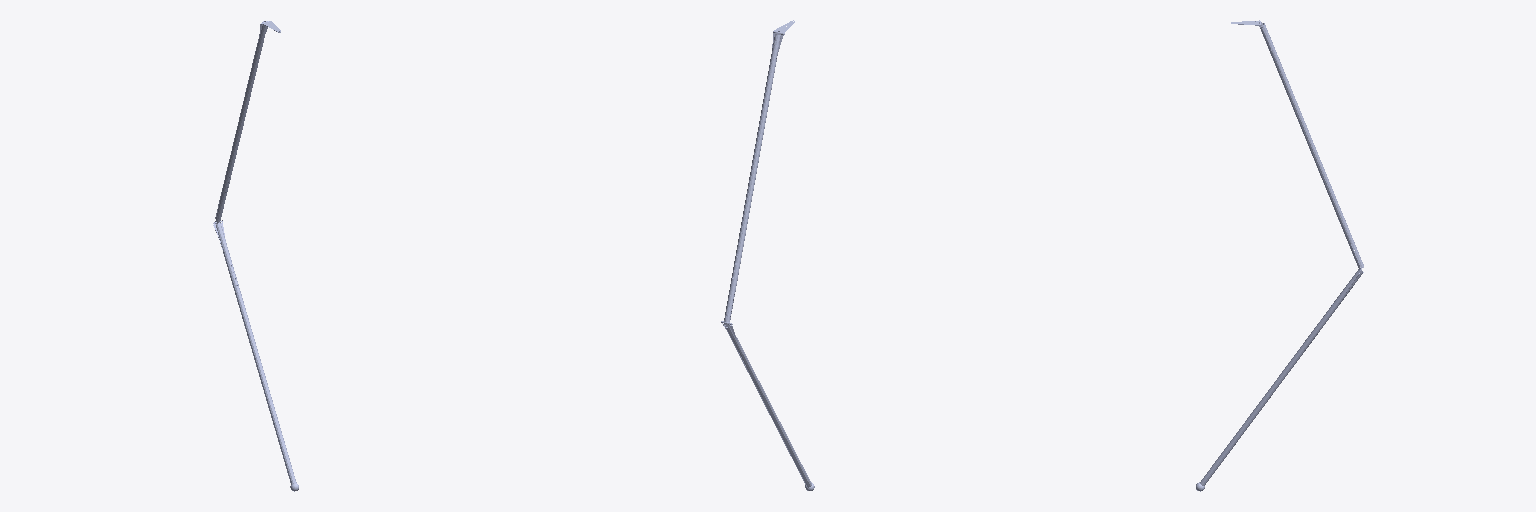
URDF robot description (robo_leg):
<?xml version="1.0" encoding="utf-8"?>
<!-- This URDF was automatically created by SolidWorks to URDF Exporter! Originally created by Stephen Brawner ([email redacted]) 
     Commit Version: 1.6.0-4-g7f85cfe  Build Version: 1.6.7995.38578
     For more information, please see http://wiki.ros.org/sw_urdf_exporter -->
<robot
  name="robo_leg">
  <link
    name="chassis">
    <inertial>
      <origin
        xyz="0.00468211118343995 8.02074076933224E-07 1.44345016779328"
        rpy="0 0 0" />
      <mass
        value="760.637011705538" />
      <inertia
        ixx="548.979952619106"
        ixy="2.9572452853585E-06"
        ixz="0.70108307139235"
        iyy="819.608093662225"
        iyz="-0.0006644896818472"
        izz="326.652818866655" />
    </inertial>
    <visual>
      <origin
        xyz="0 0 0"
        rpy="0 0 0" />
      <geometry>
        <mesh
          filename="package://robo_leg/meshes/chassis.STL" />
      </geometry>
      <material
        name="">
        <color
          rgba="0.792156862745098 0.819607843137255 0.933333333333333 1" />
      </material>
    </visual>
    <collision>
      <origin
        xyz="0 0 0"
        rpy="0 0 0" />
      <geometry>
        <mesh
          filename="package://robo_leg/meshes/chassis.STL" />
      </geometry>
    </collision>
  </link>
  <link
    name="hinge_UU">
    <inertial>
      <origin
        xyz="-0.000588001226960427 -0.0538797737282969 0.0040775821785497"
        rpy="0 0 0" />
      <mass
        value="0.0124075021216369" />
      <inertia
        ixx="2.1547530224451E-05"
        ixy="4.08560226266882E-09"
        ixz="3.50399838282756E-11"
        iyy="2.48420344050436E-06"
        iyz="4.38826489428055E-07"
        izz="2.39156461358384E-05" />
    </inertial>
    <visual>
      <origin
        xyz="0 0 0"
        rpy="0 0 0" />
      <geometry>
        <mesh
          filename="package://robo_leg/meshes/hinge_UU.STL" />
      </geometry>
      <material
        name="">
        <color
          rgba="0.792156862745098 0.819607843137255 0.933333333333333 1" />
      </material>
    </visual>
    <collision>
      <origin
        xyz="0 0 0"
        rpy="0 0 0" />
      <geometry>
        <mesh
          filename="package://robo_leg/meshes/hinge_UU.STL" />
      </geometry>
    </collision>
  </link>
  <joint
    name="hinge_UU_j"
    type="fixed">
    <origin
      xyz="0.000591115875000159 -0.336809806641101 2.52518148974062"
      rpy="0 0 0" />
    <parent
      link="chassis" />
    <child
      link="hinge_UU" />
    <axis
      xyz="0 0 0" />
  </joint>
  <link
    name="hinge_UL">
    <inertial>
      <origin
        xyz="-0.000350068636117778 0.0187349879184172 -0.0407234626928345"
        rpy="0 0 0" />
      <mass
        value="0.0149562489565383" />
      <inertia
        ixx="2.77383053237888E-05"
        ixy="6.53538296214272E-08"
        ixz="-1.41295179953695E-07"
        iyy="2.61494686866995E-05"
        iyz="9.67139193493288E-06"
        izz="6.47198136297428E-06" />
    </inertial>
    <visual>
      <origin
        xyz="0 0 0"
        rpy="0 0 0" />
      <geometry>
        <mesh
          filename="package://robo_leg/meshes/hinge_UL.STL" />
      </geometry>
      <material
        name="">
        <color
          rgba="0.792156862745098 0.819607843137255 0.933333333333333 1" />
      </material>
    </visual>
    <collision>
      <origin
        xyz="0 0 0"
        rpy="0 0 0" />
      <geometry>
        <mesh
          filename="package://robo_leg/meshes/hinge_UL.STL" />
      </geometry>
    </collision>
  </link>
  <joint
    name="hinge_UL_j"
    type="revolute">
    <origin
      xyz="0 0 0"
      rpy="0 0 0" />
    <parent
      link="hinge_UU" />
    <child
      link="hinge_UL" />
    <axis
      xyz="1 0 0" />
    <limit
      lower="0.349"
      upper="-0.349"
      effort="100"
      velocity="2" />
  </joint>
  <link
    name="tube_upper">
    <inertial>
      <origin
        xyz="1.39309443702995E-08 -0.000642623368306866 0.00173034700918451"
        rpy="0 0 0" />
      <mass
        value="0.182771131041888" />
      <inertia
        ixx="0.0288040348348787"
        ixy="1.02559628783341E-10"
        ixz="9.55764880392193E-10"
        iyy="0.0253156864476515"
        iyz="0.0093895125146079"
        izz="0.00352488883961342" />
    </inertial>
    <visual>
      <origin
        xyz="0 0 0"
        rpy="0 0 0" />
      <geometry>
        <mesh
          filename="package://robo_leg/meshes/tube_upper.STL" />
      </geometry>
      <material
        name="">
        <color
          rgba="0.792156862745098 0.819607843137255 0.933333333333333 1" />
      </material>
    </visual>
    <collision>
      <origin
        xyz="0 0 0"
        rpy="0 0 0" />
      <geometry>
        <mesh
          filename="package://robo_leg/meshes/tube_upper.STL" />
      </geometry>
    </collision>
  </link>
  <joint
    name="tube_upper_j"
    type="fixed">
    <origin
      xyz="-0.000590088374999936 0.252035396430084 -0.660642634271047"
      rpy="0 0 0" />
    <parent
      link="hinge_UL" />
    <child
      link="tube_upper" />
    <axis
      xyz="0 0 0" />
  </joint>
  <link
    name="hinge_LU">
    <inertial>
      <origin
        xyz="-0.000588084340786471 -0.0149379000005746 0.0519264306817591"
        rpy="0 0 0" />
      <mass
        value="0.0124080543656935" />
      <inertia
        ixx="2.15480311497024E-05"
        ixy="1.42460075635426E-09"
        ixz="-3.74261469269207E-09"
        iyy="2.16045137326289E-05"
        iyz="6.66316689173814E-06"
        izz="4.79656409042026E-06" />
    </inertial>
    <visual>
      <origin
        xyz="0 0 0"
        rpy="0 0 0" />
      <geometry>
        <mesh
          filename="package://robo_leg/meshes/hinge_LU.STL" />
      </geometry>
      <material
        name="">
        <color
          rgba="0.792156862745098 0.819607843137255 0.933333333333333 1" />
      </material>
    </visual>
    <collision>
      <origin
        xyz="0 0 0"
        rpy="0 0 0" />
      <geometry>
        <mesh
          filename="package://robo_leg/meshes/hinge_LU.STL" />
      </geometry>
    </collision>
  </link>
  <joint
    name="hinge_LU_j"
    type="fixed">
    <origin
      xyz="0.000589745875000963 0.240357925630607 -0.664980149220171"
      rpy="0 0 0" />
    <parent
      link="tube_upper" />
    <child
      link="hinge_LU" />
    <axis
      xyz="0 0 0" />
  </joint>
  <link
    name="hinge_LL">
    <inertial>
      <origin
        xyz="-0.000349162331473335 -0.022221144798599 -0.0389713358298034"
        rpy="0 0 0" />
      <mass
        value="0.0149300118627521" />
      <inertia
        ixx="2.77317575100482E-05"
        ixy="-7.69471635965688E-08"
        ixz="-1.35726947664107E-07"
        iyy="2.22963747944033E-05"
        iyz="-1.24251026830735E-05"
        izz="1.03187743356264E-05" />
    </inertial>
    <visual>
      <origin
        xyz="0 0 0"
        rpy="0 0 0" />
      <geometry>
        <mesh
          filename="package://robo_leg/meshes/hinge_LL.STL" />
      </geometry>
      <material
        name="">
        <color
          rgba="0.792156862745098 0.819607843137255 0.933333333333333 1" />
      </material>
    </visual>
    <collision>
      <origin
        xyz="0 0 0"
        rpy="0 0 0" />
      <geometry>
        <mesh
          filename="package://robo_leg/meshes/hinge_LL.STL" />
      </geometry>
    </collision>
  </link>
  <joint
    name="hinge_LL_j"
    type="revolute">
    <origin
      xyz="0 0 0"
      rpy="0 0 0" />
    <parent
      link="hinge_LU" />
    <child
      link="hinge_LL" />
    <axis
      xyz="-1 0 0" />
    <limit
      lower="0.349"
      upper="-0.349"
      effort="100"
      velocity="2" />
  </joint>
  <link
    name="tube_lower">
    <inertial>
      <origin
        xyz="-1.46219117647117E-08 -0.00513048443543922 -0.00759988268326084"
        rpy="0 0 0" />
      <mass
        value="0.185067675197668" />
      <inertia
        ixx="0.029707829187277"
        ixy="1.92332160440707E-09"
        ixz="-3.37902686525801E-10"
        iyy="0.0204240923383546"
        iyz="-0.0137570481564351"
        izz="0.00932114604754061" />
    </inertial>
    <visual>
      <origin
        xyz="0 0 0"
        rpy="0 0 0" />
      <geometry>
        <mesh
          filename="package://robo_leg/meshes/tube_lower.STL" />
      </geometry>
      <material
        name="">
        <color
          rgba="0.792156862745098 0.819607843137255 0.933333333333333 1" />
      </material>
    </visual>
    <collision>
      <origin
        xyz="0 0 0"
        rpy="0 0 0" />
      <geometry>
        <mesh
          filename="package://robo_leg/meshes/tube_lower.STL" />
      </geometry>
    </collision>
  </link>
  <joint
    name="tube_lower_j"
    type="fixed">
    <origin
      xyz="-0.00059077337500113 -0.390345036110258 -0.58957722566556"
      rpy="0 0 0" />
    <parent
      link="hinge_LL" />
    <child
      link="tube_lower" />
    <axis
      xyz="0 0 0" />
  </joint>
  <link
    name="leg support ">
    <inertial>
      <origin
        xyz="-7.21644966006352E-16 -4.9222527990056E-05 -7.29412373186022E-05"
        rpy="0 0 0" />
      <mass
        value="0.00526659250823865" />
      <inertia
        ixx="1.57167590827307E-06"
        ixy="6.98764716172854E-23"
        ixz="1.03549426819276E-22"
        iyy="1.66436600986042E-06"
        iyz="1.37354397942885E-07"
        izz="1.77521685073793E-06" />
    </inertial>
    <visual>
      <origin
        xyz="0 0 0"
        rpy="0 0 0" />
      <geometry>
        <mesh
          filename="package://robo_leg/meshes/leg support .STL" />
      </geometry>
      <material
        name="">
        <color
          rgba="0.792156862745098 0.819607843137255 0.933333333333333 1" />
      </material>
    </visual>
    <collision>
      <origin
        xyz="0 0 0"
        rpy="0 0 0" />
      <geometry>
        <mesh
          filename="package://robo_leg/meshes/leg support .STL" />
      </geometry>
    </collision>
  </link>
  <joint
    name="leg support _j"
    type="fixed">
    <origin
      xyz="0 -0.398049308609462 -0.589856114075886"
      rpy="0 0 0" />
    <parent
      link="tube_lower" />
    <child
      link="leg support " />
    <axis
      xyz="0 0 0" />
  </joint>
</robot>

--- Render facts (derived) ---
Views: 3 orthographic renders of the robot side by side, from view 1: azimuth 30°, elevation 25°; view 2: azimuth 150°, elevation 25°; view 3: azimuth 270°, elevation 25°.
Robot: robo_leg — 8 links, 7 joints (2 revolute, 5 fixed); root link chassis; default pose: all joints at 0.
Links seen in each view (by area): view 1: tube_lower, tube_upper; view 2: tube_upper, tube_lower; view 3: tube_lower, tube_upper.
Link boxes in pixels (x1=…): tube_lower: x1=216, y1=223, x2=296, y2=484; tube_upper: x1=215, y1=21, x2=266, y2=222; tube_upper: x1=724, y1=34, x2=780, y2=321; tube_lower: x1=724, y1=325, x2=811, y2=487; tube_lower: x1=1200, y1=269, x2=1363, y2=485; tube_upper: x1=1260, y1=23, x2=1363, y2=268.
Bounding box of the posed robot: 0.0579 × 0.8267 × 2.53 m (x, y, z).
Meshes: 8 distinct files referenced, 6 mesh visuals loaded (6 binary STL); not drawn: 2 (reference not matched to a file when rendering).
